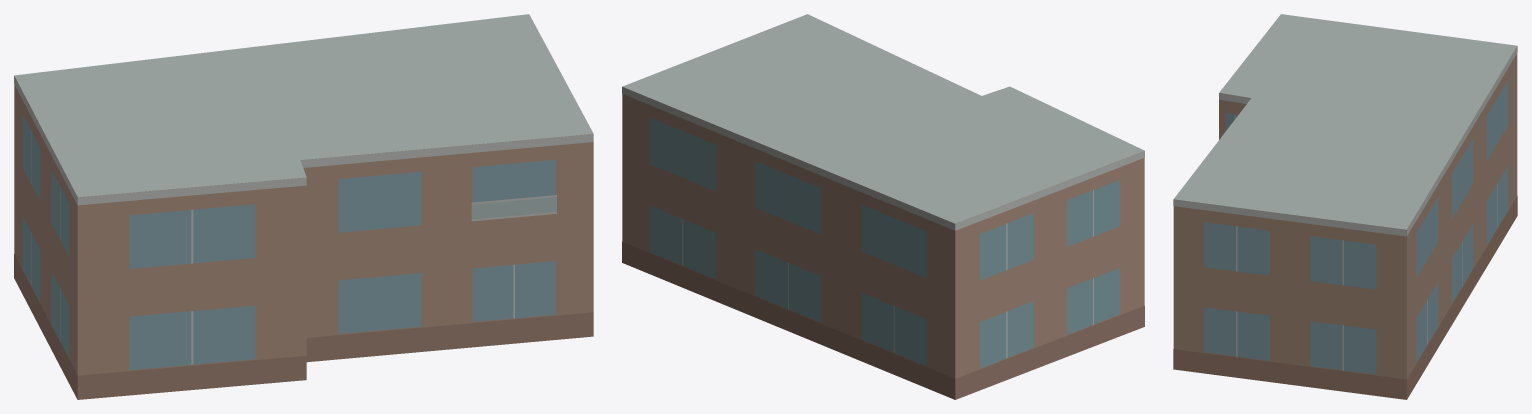
File: survey-upis-32896084.glb
The picture shows the model from 3 angles, left to right: view 1: azimuth 30°, elevation 25°; view 2: azimuth 150°, elevation 25°; view 3: azimuth 270°, elevation 25°; orthographic projection. The views are drawn at different scales.
Parts seen in each view (by area): view 1: survey-upis-32896084.tmp; view 2: survey-upis-32896084.tmp; view 3: survey-upis-32896084.tmp.
Part boxes in pixels (x1,y1,x2,y2): survey-upis-32896084.tmp: [14, 14, 593, 399]; survey-upis-32896084.tmp: [622, 14, 1144, 399]; survey-upis-32896084.tmp: [1173, 14, 1517, 399].
Bounding box in the file's own units: 16.6 × 6.1 × 11.19.
